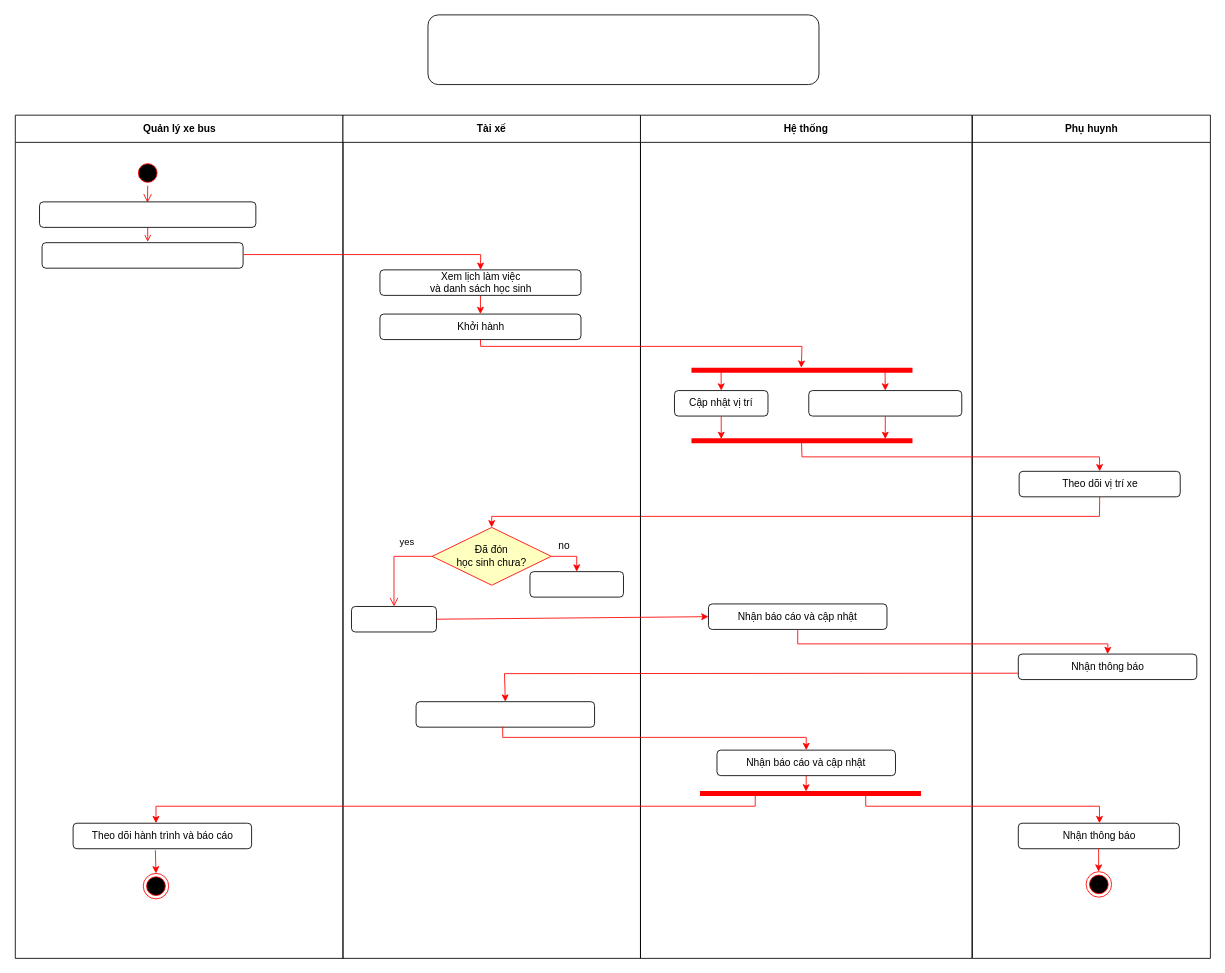
This 1225x973 diagram has some shape labels left out. The box of each missing label's shape, as (x1, y1, x2, y2) in pixels:
Báo cáo sự cố: (529, 571, 623, 597)
Báo cáo đã đón học sinh: (351, 606, 436, 632)
Gửi thông báo xe gần điểm đón: (808, 390, 962, 416)
Phân công tài xế và xe cho tuyến: (41, 242, 243, 268)
Sơ đồ hoạt động lý tưởng: (427, 14, 819, 85)
Trả học sinh tại điểm trả: (415, 701, 595, 727)
Xem danh sách học sinh, tài xế, phương tiện: (39, 201, 256, 227)
